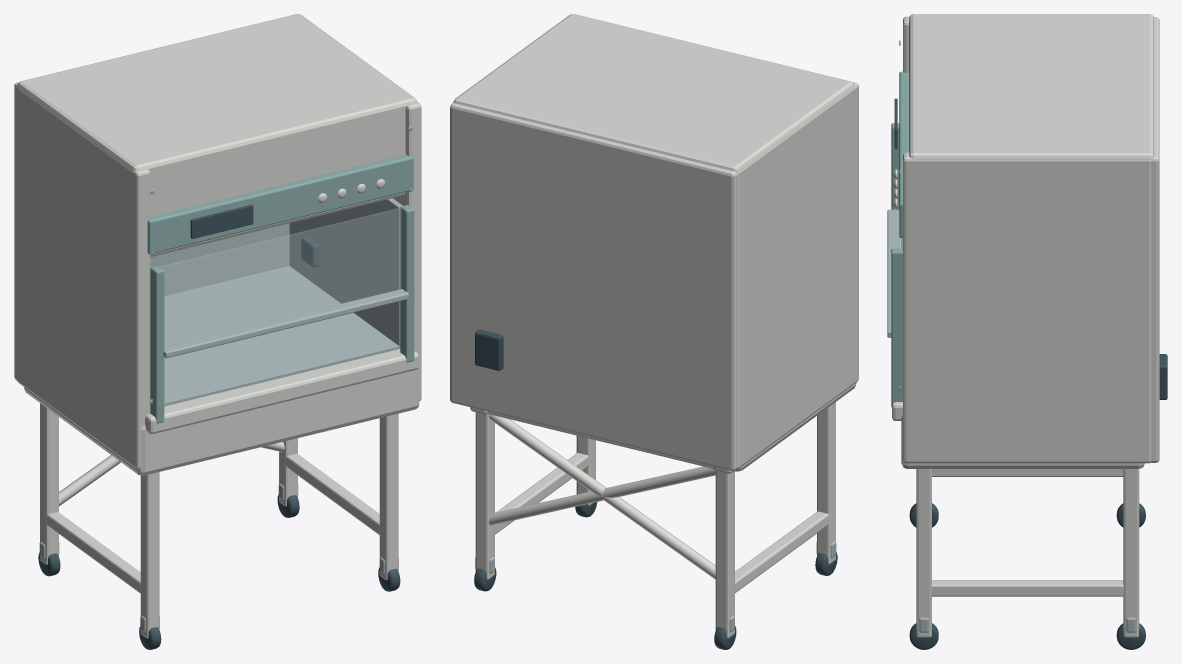
Rendered from clean-bench.glb.
The picture shows the model from 3 angles, left to right: view 1: azimuth 30°, elevation 25°; view 2: azimuth 150°, elevation 25°; view 3: azimuth 270°, elevation 25°; orthographic projection. The views are drawn at different scales.
Parts seen in each view (by area): view 1: upper filter housing, closed side casing, single sealed stainless chamber, sash, continuous lower enclosure fascia, control band, front worktop nose, sash handle, support leg.001, support leg.003, closed side casing.001, support leg (+8 smaller); view 2: rear cabinet wall, closed side casing, upper filter housing, rear diagonal structural brace, support leg, support leg.002, rear complementary brace, support leg.001, lower side brace, lower side brace.001, rear service inlet, stand cross member (+2 smaller); view 3: closed side casing.001, upper filter housing, rear cabinet wall, lower side brace.001, support leg.002, support leg.003, sash runner.001, continuous lower enclosure fascia, lower side brace, control band, sash handle, sash runner (+3 smaller).
Part boxes in pixels (x1,y1,x2,y2): upper filter housing: [17, 14, 417, 256]; closed side casing: [17, 87, 150, 469]; single sealed stainless chamber: [150, 198, 402, 406]; sash: [159, 208, 401, 346]; continuous lower enclosure fascia: [24, 362, 419, 475]; control band: [147, 155, 413, 254]; front worktop nose: [145, 349, 418, 434]; sash handle: [163, 289, 408, 358]; support leg.001: [140, 472, 159, 638]; support leg.003: [379, 413, 398, 580]; closed side casing.001: [393, 102, 421, 400]; support leg: [40, 403, 58, 564]; rear cabinet wall: [450, 103, 738, 470]; closed side casing: [737, 82, 858, 468]; upper filter housing: [453, 14, 854, 172]; rear diagonal structural brace: [488, 414, 715, 579]; support leg: [715, 471, 734, 638]; support leg.002: [475, 412, 494, 579]; rear complementary brace: [488, 466, 715, 525]; support leg.001: [817, 402, 835, 564]; lower side brace: [735, 511, 828, 592]; lower side brace.001: [495, 453, 588, 534]; rear service inlet: [475, 329, 503, 370]; stand cross member: [487, 411, 713, 468]; closed side casing.001: [903, 152, 1151, 463]; upper filter housing: [909, 14, 1153, 159]; rear cabinet wall: [1151, 17, 1159, 462]; lower side brace.001: [931, 580, 1123, 596]; support leg.002: [1123, 469, 1139, 637]; support leg.003: [916, 469, 931, 637]; sash runner.001: [891, 248, 902, 407]; continuous lower enclosure fascia: [901, 415, 1144, 468]; lower side brace: [932, 469, 1123, 476]; control band: [899, 71, 908, 237]; sash handle: [887, 209, 901, 337]; sash runner: [891, 123, 902, 248].
Bounding box in the file's own units: 0.884 × 1.45 × 0.7315.
